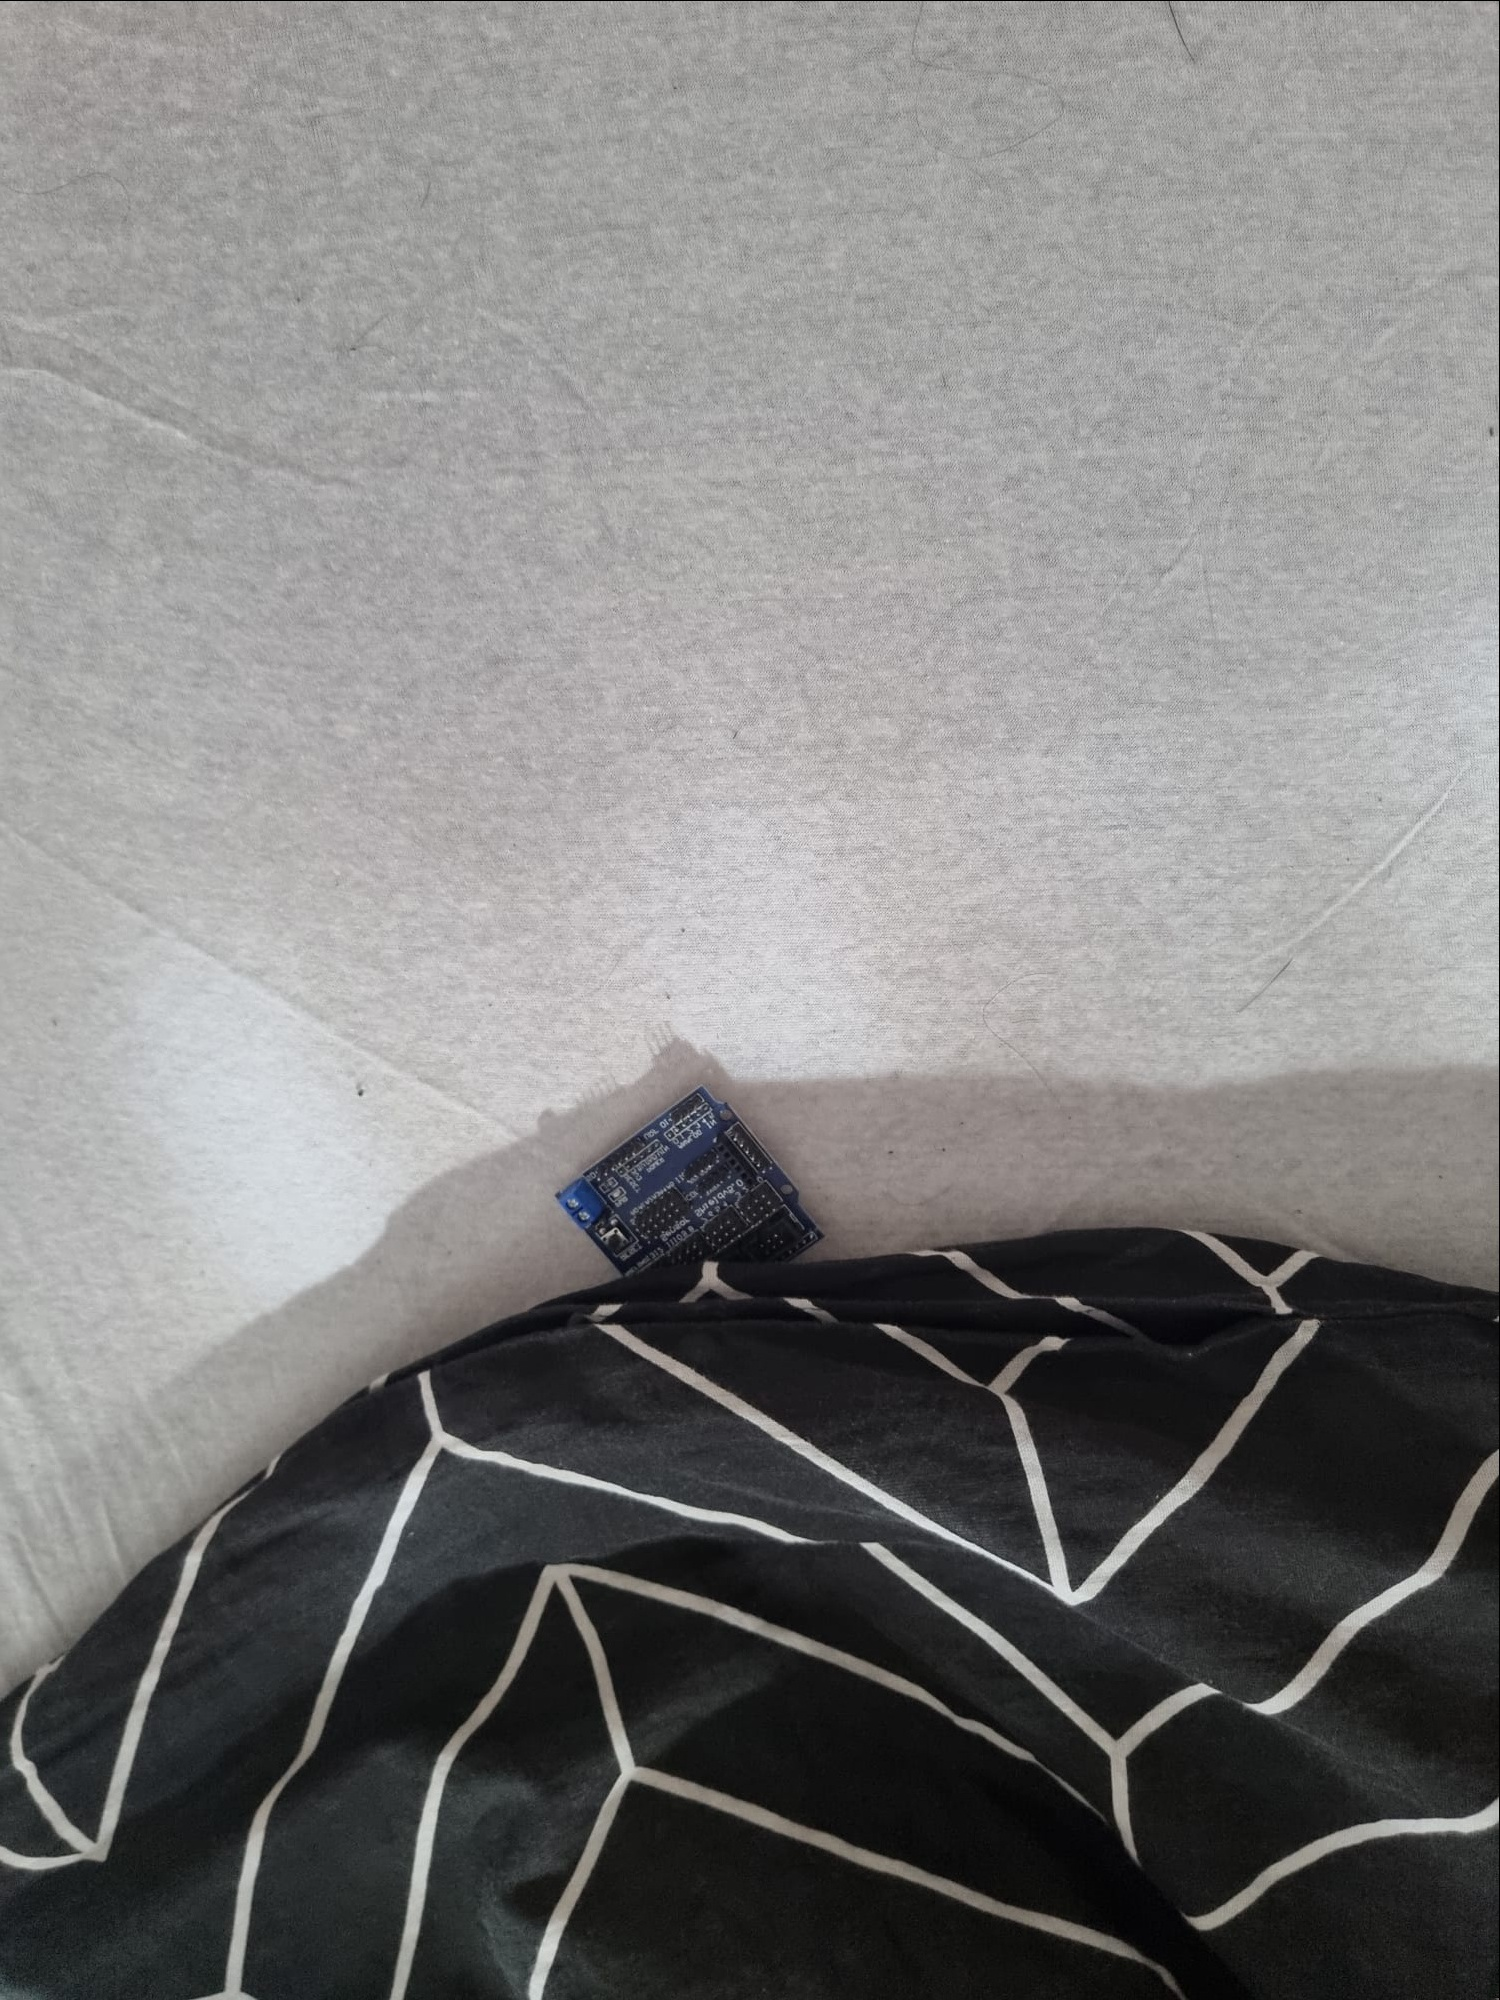5V EXPANSION: (555, 1065, 830, 1318)
